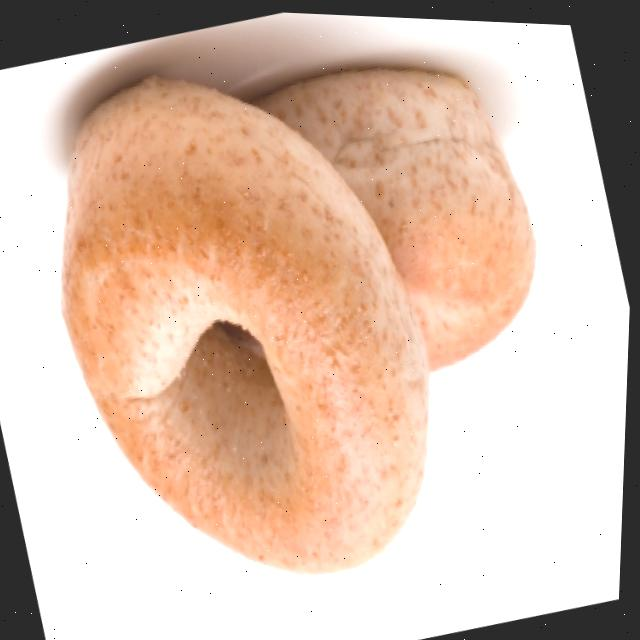面包点心: (5, 1, 627, 640)
